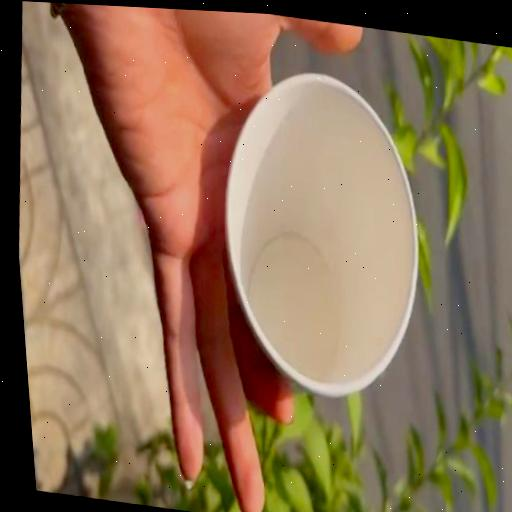ly_giay: (224, 73, 417, 396)
